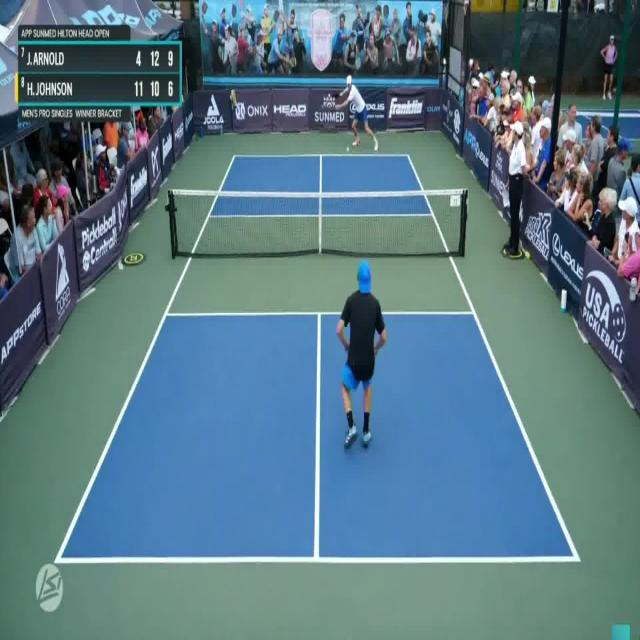Court: (57, 154, 577, 562)
ball: (345, 140, 350, 153)
